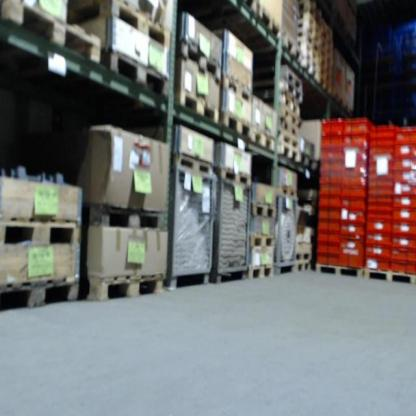pallet: (67, 0, 172, 50), (100, 47, 169, 97), (79, 200, 168, 232), (0, 215, 81, 250), (0, 278, 80, 311), (78, 274, 167, 302), (175, 37, 222, 83), (173, 86, 220, 124), (218, 109, 253, 140), (172, 152, 214, 176), (363, 267, 416, 286), (220, 73, 253, 103), (214, 164, 253, 187), (257, 3, 281, 40), (315, 263, 365, 280), (249, 125, 277, 153), (281, 31, 303, 65), (249, 200, 277, 219), (247, 265, 275, 281), (249, 231, 275, 247), (299, 151, 317, 171), (284, 72, 303, 90), (280, 144, 299, 161), (280, 100, 301, 115), (280, 120, 299, 136), (295, 258, 313, 273), (283, 87, 302, 101), (280, 133, 299, 146), (280, 108, 296, 123), (279, 185, 297, 198), (318, 78, 332, 92), (295, 251, 311, 263), (321, 41, 333, 55), (321, 53, 332, 67), (320, 58, 329, 73), (324, 32, 333, 46), (320, 69, 330, 79)
small_load_carrier: (337, 238, 360, 267), (342, 146, 368, 162), (318, 118, 342, 135), (343, 119, 369, 134), (342, 162, 366, 178), (392, 222, 415, 238), (363, 256, 389, 269), (391, 248, 415, 262), (395, 127, 414, 144), (342, 187, 365, 201), (395, 143, 415, 159), (394, 169, 415, 184), (393, 208, 415, 222), (364, 244, 389, 256), (394, 194, 415, 208), (389, 263, 415, 274), (339, 213, 365, 224), (395, 156, 415, 170), (368, 221, 391, 233), (339, 202, 364, 213), (342, 136, 368, 146), (394, 145, 415, 157), (319, 206, 340, 218), (318, 195, 340, 206), (322, 175, 342, 187), (341, 224, 365, 234), (319, 218, 340, 229), (395, 184, 415, 195), (318, 231, 338, 242), (318, 242, 338, 253), (391, 238, 415, 247), (320, 144, 344, 153), (342, 178, 366, 187), (321, 155, 342, 165), (368, 233, 391, 242), (322, 165, 342, 175), (318, 220, 340, 229), (318, 187, 342, 195), (322, 137, 342, 145)
stillage: (166, 160, 220, 294), (214, 168, 258, 288), (273, 185, 304, 276)
